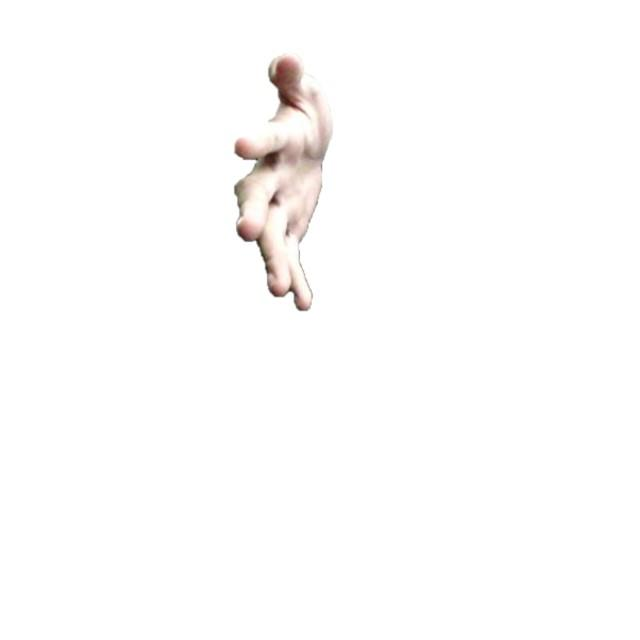pa-: (232, 52, 334, 313)
